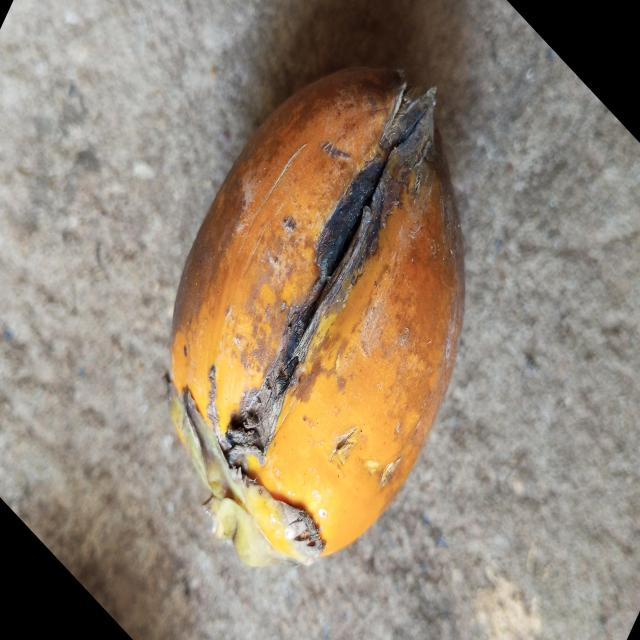damaged: (170, 68, 464, 566)
